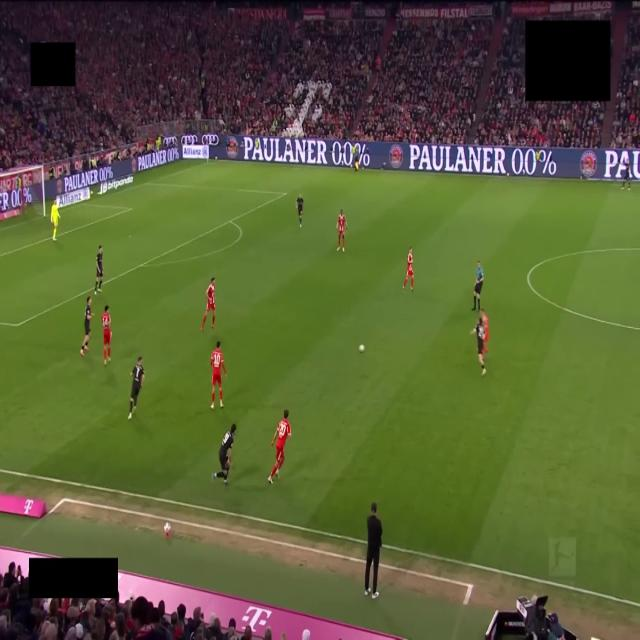ball: (359, 344, 364, 352)
player: (268, 410, 291, 483), (212, 424, 236, 485), (211, 341, 226, 408), (128, 357, 144, 419), (471, 317, 485, 375), (201, 278, 215, 331), (80, 296, 92, 355), (101, 305, 111, 366), (336, 209, 347, 251), (403, 247, 413, 292), (50, 202, 60, 241), (95, 246, 103, 294), (481, 309, 489, 353), (621, 160, 630, 190), (296, 194, 303, 227)
referee: (472, 261, 483, 311)
